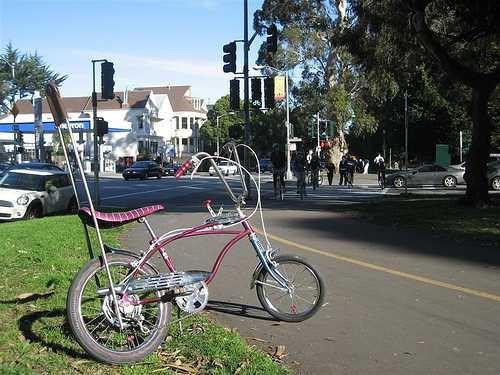green: (250, 76, 263, 109)
